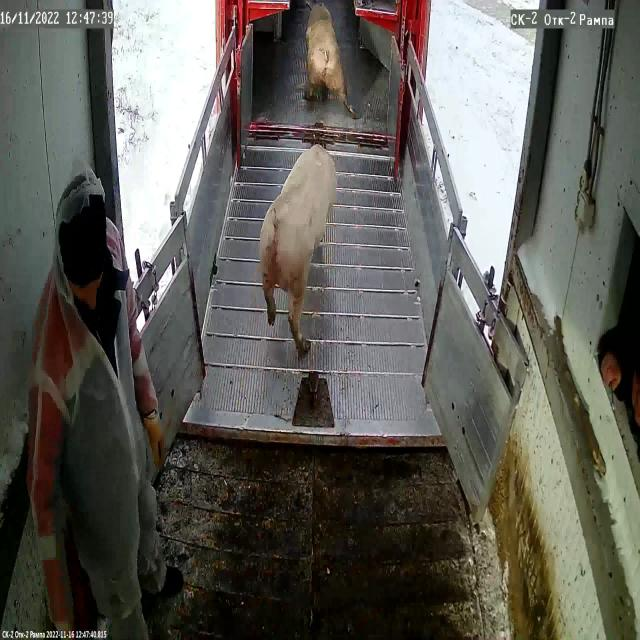pig: (260, 145, 336, 354), (306, 5, 351, 111)
